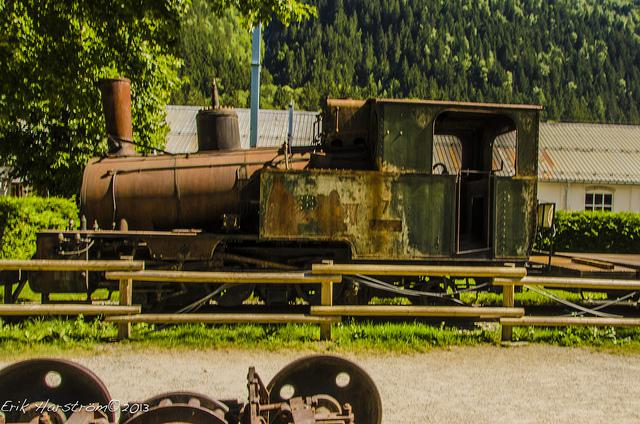Train: (28, 79, 554, 282)
